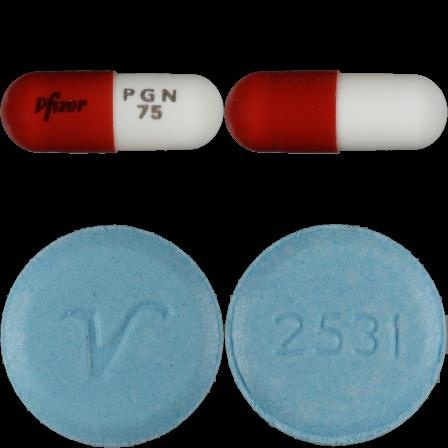43353-264: (0, 0, 224, 224)
